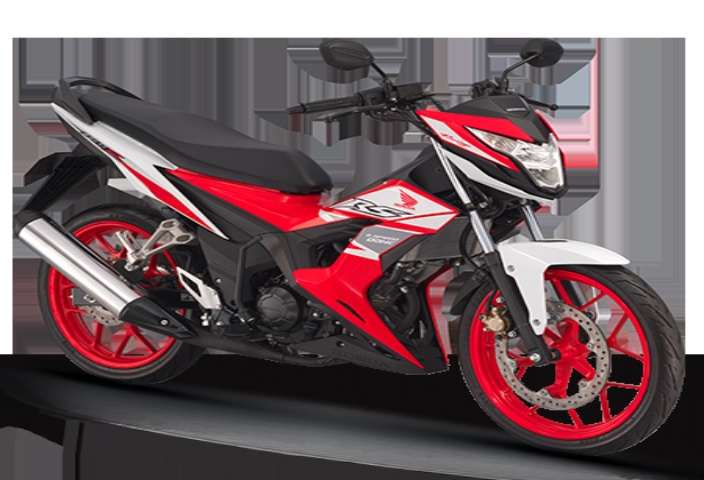motorcycle: (16, 42, 692, 455)
